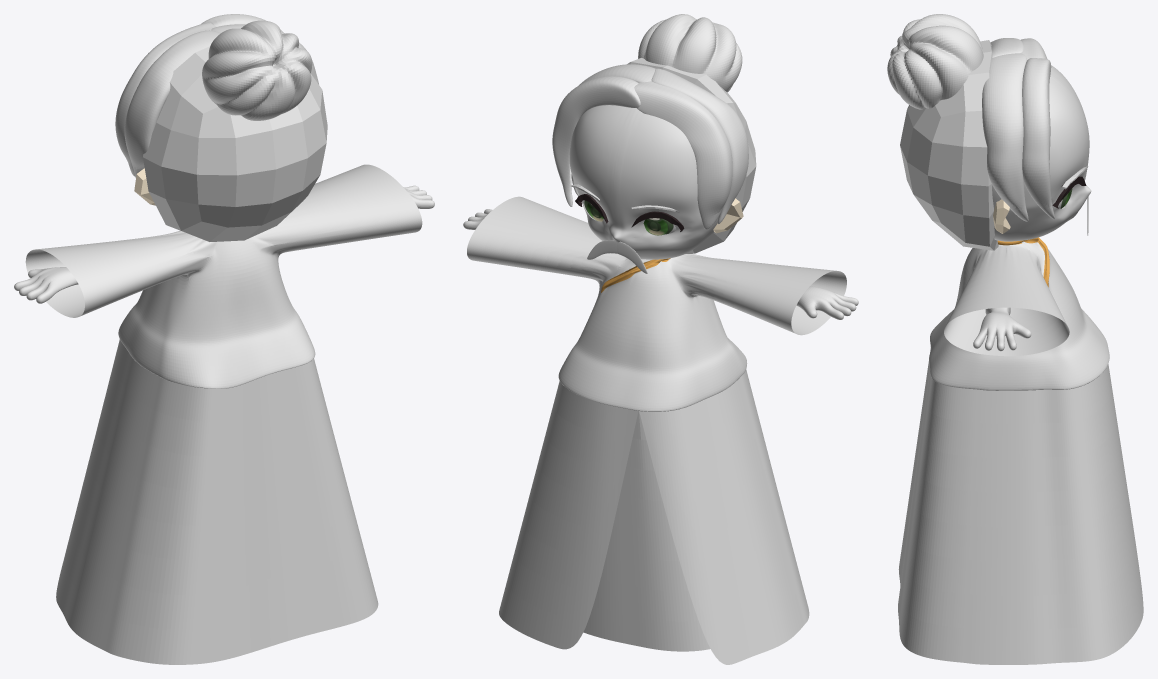
Rendered from 老爷爷合并版.fbx.
3 views of the same model, side by side, from view 1: azimuth 30°, elevation 25°; view 2: azimuth 150°, elevation 25°; view 3: azimuth 270°, elevation 25° (orthographic). The views are drawn at different scales.
Parts seen in each view (by area): view 1: 衣服, Cube.004, 立方体.001, 圆环, Cube; view 2: 衣服, Cube.004, 圆环, 立方体.001, Cube, 立方体; view 3: 衣服, Cube.004, 圆环, 立方体.001, Cube.
Boxes of the visible parts, x1=… form: 衣服: x1=25, y1=164, x2=422, y2=664; Cube.004: x1=134, y1=46, x2=327, y2=241; 立方体.001: x1=202, y1=20, x2=312, y2=120; 圆环: x1=115, y1=14, x2=318, y2=177; Cube: x1=14, y1=185, x2=434, y2=303; 衣服: x1=467, y1=196, x2=846, y2=664; Cube.004: x1=569, y1=58, x2=756, y2=259; 圆环: x1=552, y1=64, x2=748, y2=229; 立方体.001: x1=638, y1=14, x2=742, y2=92; Cube: x1=463, y1=209, x2=858, y2=319; 立方体: x1=587, y1=240, x2=647, y2=273; 衣服: x1=898, y1=237, x2=1143, y2=664; Cube.004: x1=900, y1=40, x2=1091, y2=250; 圆环: x1=982, y1=38, x2=1054, y2=221; 立方体.001: x1=887, y1=14, x2=983, y2=109; Cube: x1=973, y1=307, x2=1031, y2=351.
Size of the model in its own units: 736 by 1047 by 415.
13 materials, 2 textured.
